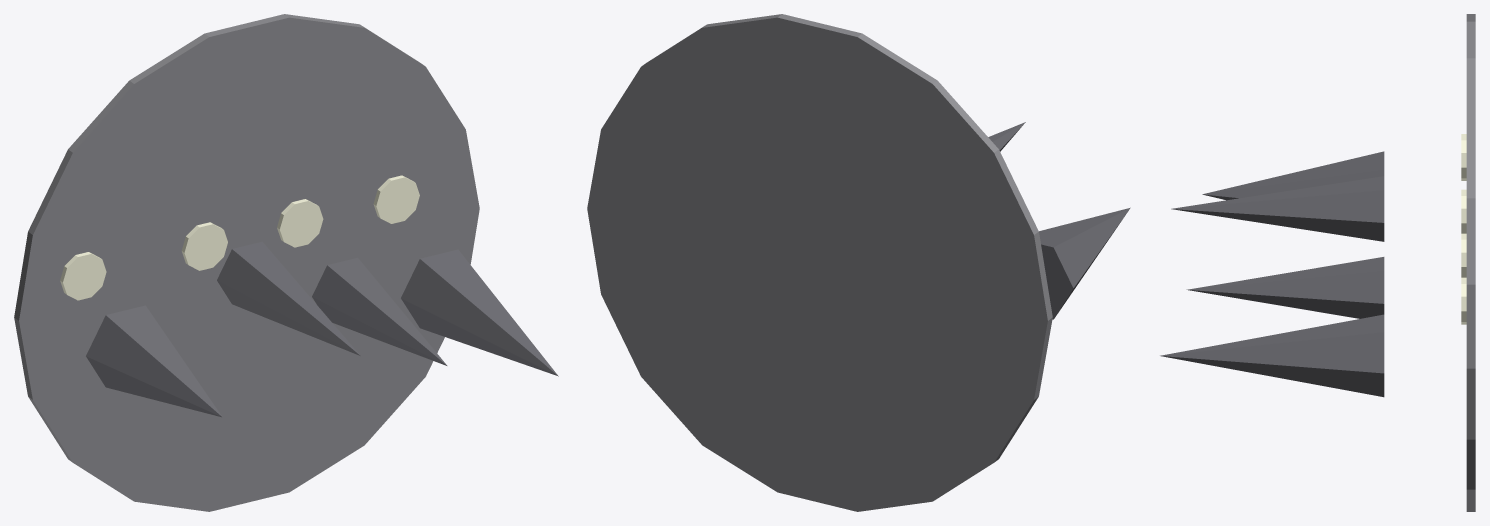
Rendered from 04_event_hazard_cluster.glb.
The picture shows the model from 3 angles, left to right: view 1: azimuth 30°, elevation 25°; view 2: azimuth 150°, elevation 25°; view 3: azimuth 270°, elevation 25°; orthographic projection. The views are drawn at different scales.
Parts seen in each view (by area): view 1: scatter_base, basalt_shard_3, basalt_shard_0, basalt_shard_1, basalt_shard_2, lava_glow_1, lava_glow_3, lava_glow_2, lava_glow_0; view 2: scatter_base, basalt_shard_0; view 3: basalt_shard_3, basalt_shard_1, basalt_shard_2, scatter_base, basalt_shard_0.
Boxes of the visible parts, x1=… form: scatter_base: x1=14, y1=14, x2=479, y2=511; basalt_shard_3: x1=401, y1=249, x2=558, y2=376; basalt_shard_0: x1=86, y1=305, x2=222, y2=417; basalt_shard_1: x1=217, y1=241, x2=360, y2=355; basalt_shard_2: x1=312, y1=257, x2=447, y2=365; lava_glow_1: x1=181, y1=222, x2=227, y2=270; lava_glow_3: x1=373, y1=175, x2=419, y2=223; lava_glow_2: x1=277, y1=199, x2=323, y2=247; lava_glow_0: x1=60, y1=252, x2=106, y2=300; scatter_base: x1=587, y1=14, x2=1052, y2=511; basalt_shard_0: x1=1039, y1=207, x2=1130, y2=319; basalt_shard_3: x1=1160, y1=314, x2=1384, y2=397; basalt_shard_1: x1=1171, y1=176, x2=1384, y2=241; basalt_shard_2: x1=1186, y1=257, x2=1384, y2=318; scatter_base: x1=1466, y1=14, x2=1475, y2=511; basalt_shard_0: x1=1202, y1=151, x2=1384, y2=200.
Bounding box in the file's own units: 1.9 × 1.87 × 1.2.
